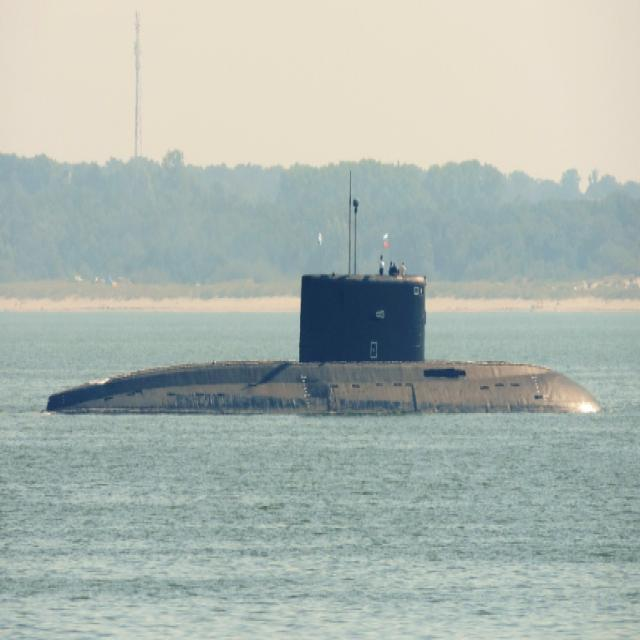submarine: (45, 267, 603, 411)
